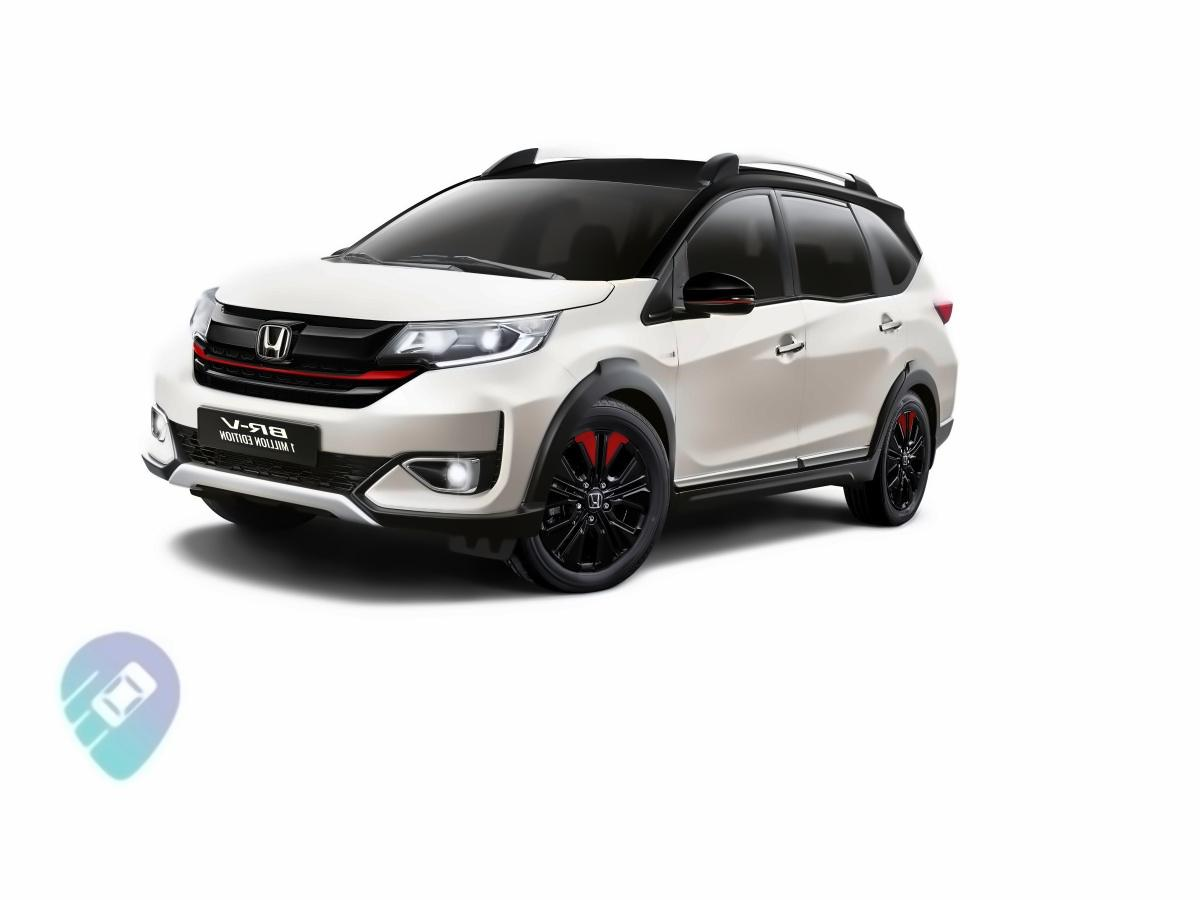Car hood: (210, 252, 621, 327)
Fender - -F-L-: (534, 269, 686, 507)
Fender - -R-L-: (897, 270, 955, 393)
Front bumper: (132, 358, 586, 552)
Headlight - -L-: (373, 302, 568, 379)
Headlight - -R-: (184, 277, 234, 349)
Passenger-s door - -F-L-: (669, 169, 810, 489)
Passenger-s door - -R-L-: (801, 178, 910, 470)
Rear bumper: (930, 352, 970, 453)
Rear light - -L-: (926, 272, 964, 326)
Side bumper - -L-: (663, 440, 886, 516)
Side mirror - -L-: (679, 265, 764, 323)
